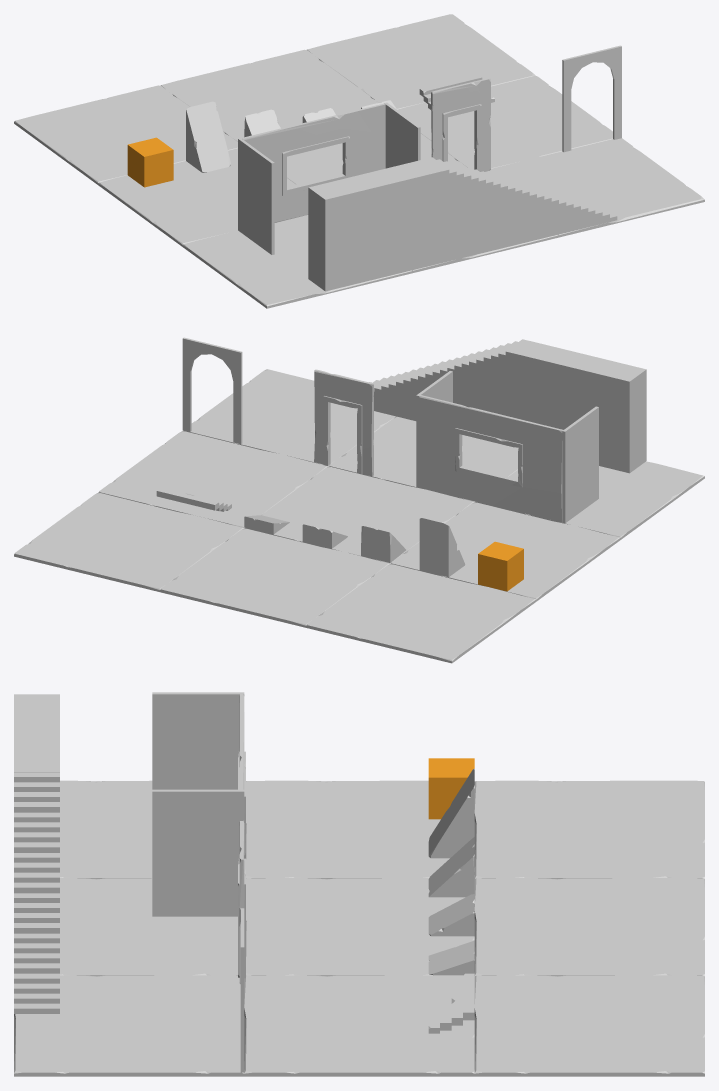
The model's file is Environment.fbx.
3 renders of one model, top to bottom at view 1: azimuth 30°, elevation 25°; view 2: azimuth 150°, elevation 25°; view 3: azimuth 270°, elevation 25°, orthographic. The views are drawn at different scales.
Visible parts, largest first — view 1: SM_Buildings_Block_1x1_01, SM_Buildings_Floor_5x5_01P, SM_Buildings_Stairs_1x3_01, SM_Buildings_Floor_5x5_01P__6_, SM_Buildings_Floor_5x5_01P__3_, SM_Buildings_Floor_5x5_01P__2_, SM_Buildings_Floor_5x5_01P__1_, SM_Buildings_WallWindowDouble_5x3_01P, SM_Buildings_Floor_5x5_01P__7_, SM_Buildings_Floor_5x5_01P__8_, SM_Buildings_WallDoor_2x3_01P, SM_Buildings_Wall_2x3_01 (+8 smaller); view 2: SM_Buildings_Floor_5x5_01P__6_, SM_Buildings_Floor_5x5_01P, SM_Buildings_Floor_5x5_01P__3_, SM_Buildings_WallWindowDouble_5x3_01P, SM_Buildings_Floor_5x5_01P__1_, SM_Buildings_Block_1x1_01, SM_Buildings_Floor_5x5_01P__4_, SM_Buildings_Floor_5x5_01P__7_, SM_Buildings_Floor_5x5_01P__2_, SM_Buildings_Stairs_1x3_01, SM_Buildings_Floor_5x5_01P__8_, SM_Buildings_Floor_5x5_01P__5_ (+10 smaller); view 3: SM_Buildings_Floor_5x5_01P, SM_Buildings_Floor_5x5_01P__6_, SM_Buildings_Floor_5x5_01P__3_, SM_Buildings_Floor_5x5_01P__1_, SM_Buildings_Floor_5x5_01P__2_, SM_Buildings_Floor_5x5_01P__4_, SM_Buildings_Floor_5x5_01P__7_, SM_Buildings_Floor_5x5_01P__5_, SM_Buildings_Wall_2x3_01__1_, SM_Buildings_Stairs_1x3_01, SM_Buildings_Floor_5x5_01P__8_, SM_Buildings_Wall_2x3_01 (+10 smaller).
Boxes of the visible parts, x1,y1,x2,y2 form: SM_Buildings_Block_1x1_01: [308, 159, 441, 291]; SM_Buildings_Floor_5x5_01P: [307, 14, 535, 109]; SM_Buildings_Stairs_1x3_01: [426, 157, 617, 262]; SM_Buildings_Floor_5x5_01P__6_: [14, 85, 237, 184]; SM_Buildings_Floor_5x5_01P__3_: [161, 49, 378, 141]; SM_Buildings_Floor_5x5_01P__2_: [485, 138, 704, 237]; SM_Buildings_Floor_5x5_01P__1_: [397, 76, 612, 169]; SM_Buildings_WallWindowDouble_5x3_01P: [241, 102, 387, 222]; SM_Buildings_Floor_5x5_01P__7_: [98, 148, 295, 246]; SM_Buildings_Floor_5x5_01P__8_: [182, 215, 412, 308]; SM_Buildings_WallDoor_2x3_01P: [431, 78, 490, 171]; SM_Buildings_Wall_2x3_01: [238, 138, 274, 254]; SM_Buildings_Floor_5x5_01P__6_: [306, 564, 536, 663]; SM_Buildings_Floor_5x5_01P: [14, 492, 243, 591]; SM_Buildings_Floor_5x5_01P__3_: [160, 528, 389, 627]; SM_Buildings_WallWindowDouble_5x3_01P: [416, 394, 563, 522]; SM_Buildings_Floor_5x5_01P__1_: [98, 431, 328, 528]; SM_Buildings_Block_1x1_01: [513, 341, 646, 473]; SM_Buildings_Floor_5x5_01P__4_: [245, 466, 474, 563]; SM_Buildings_Floor_5x5_01P__7_: [390, 502, 620, 601]; SM_Buildings_Floor_5x5_01P__2_: [183, 369, 395, 466]; SM_Buildings_Stairs_1x3_01: [369, 339, 528, 420]; SM_Buildings_Floor_5x5_01P__8_: [475, 461, 704, 539]; SM_Buildings_Floor_5x5_01P__5_: [329, 416, 518, 501]; SM_Buildings_Floor_5x5_01P: [474, 975, 704, 1076]; SM_Buildings_Floor_5x5_01P__6_: [474, 780, 704, 878]; SM_Buildings_Floor_5x5_01P__3_: [474, 878, 704, 976]; SM_Buildings_Floor_5x5_01P__1_: [244, 975, 474, 1076]; SM_Buildings_Floor_5x5_01P__2_: [14, 975, 244, 1076]; SM_Buildings_Floor_5x5_01P__4_: [246, 878, 474, 975]; SM_Buildings_Floor_5x5_01P__7_: [244, 780, 449, 878]; SM_Buildings_Floor_5x5_01P__5_: [60, 878, 237, 975]; SM_Buildings_Wall_2x3_01__1_: [152, 789, 244, 916]; SM_Buildings_Stairs_1x3_01: [14, 772, 59, 1013]; SM_Buildings_Floor_5x5_01P__8_: [60, 780, 152, 878]; SM_Buildings_Wall_2x3_01: [152, 692, 244, 789].
Bounding box in the file's own units: 1500 × 310 × 1500.
2 materials, 1 textured.
